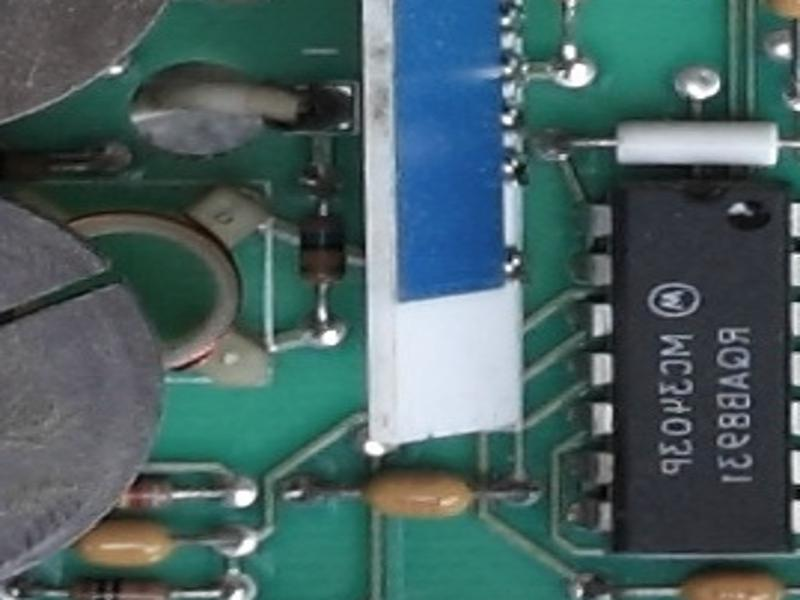Resistor: (294, 206, 347, 290), (67, 475, 191, 508), (58, 574, 184, 600)
